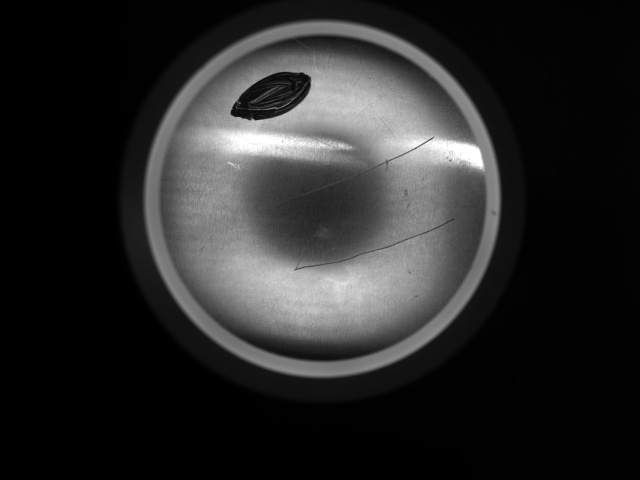ca_shang: (276, 134, 437, 210), (292, 216, 459, 273)
zang_wu: (229, 72, 313, 121)
